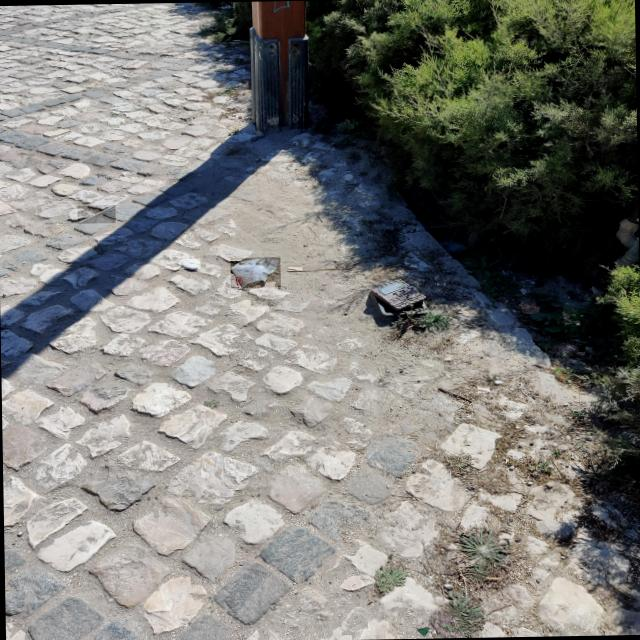Broken glass: (416, 626, 429, 636)
Cigarette: (477, 387, 489, 392), (288, 267, 302, 270)
Cup: (230, 257, 280, 287)
Unlabeled litter: (79, 205, 115, 223), (182, 259, 200, 268)
